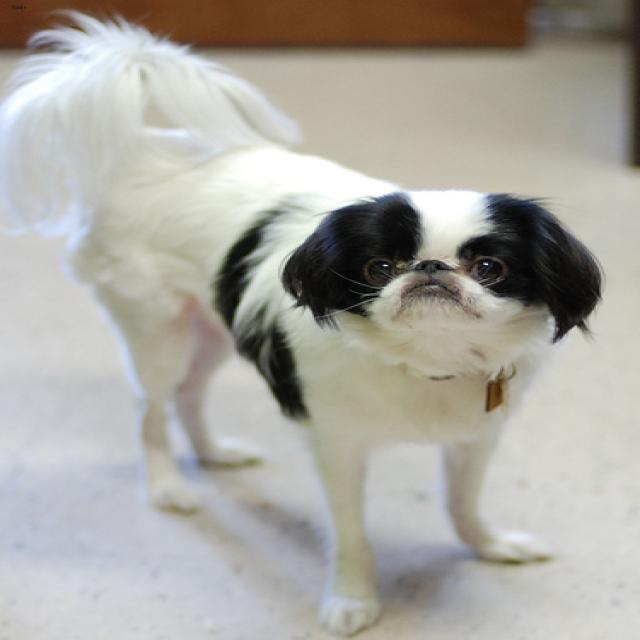dog-japanese_chin: (2, 1, 620, 637)
